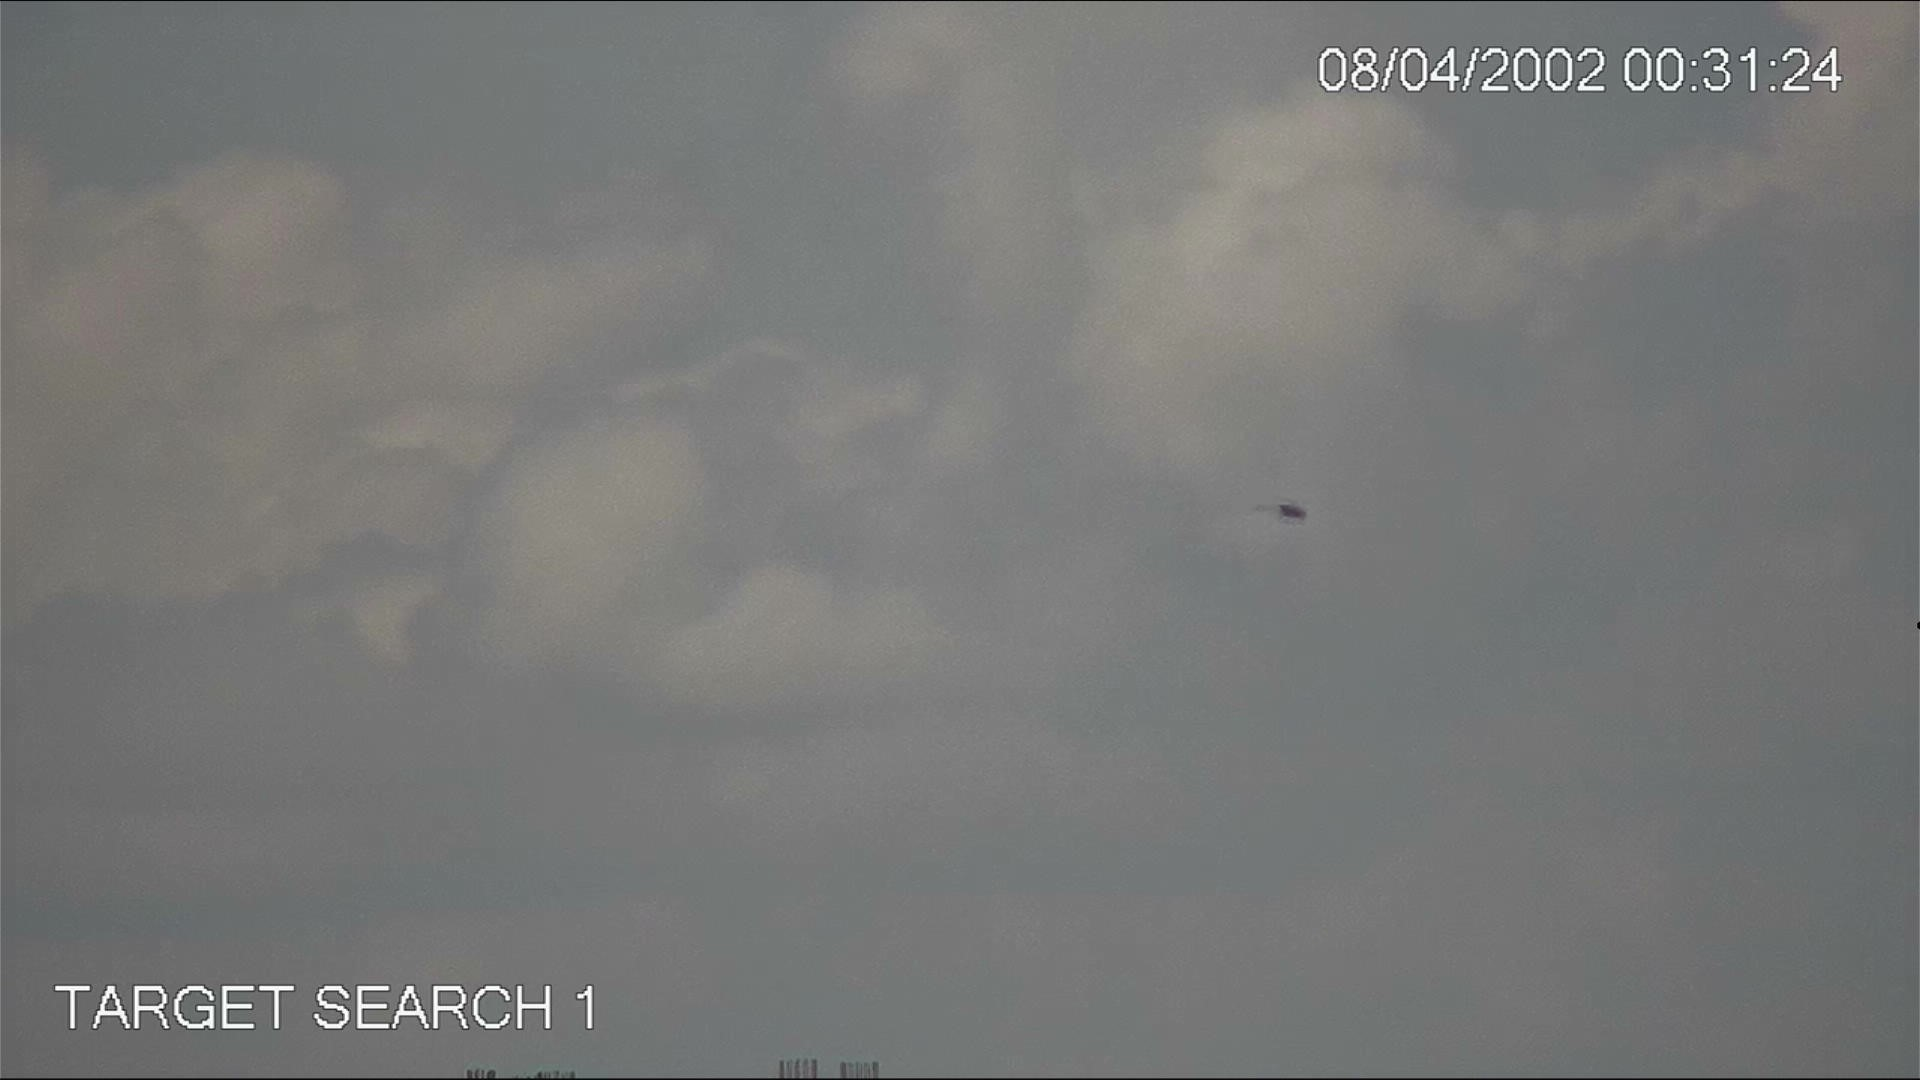SU_30: (1249, 493, 1315, 531)
